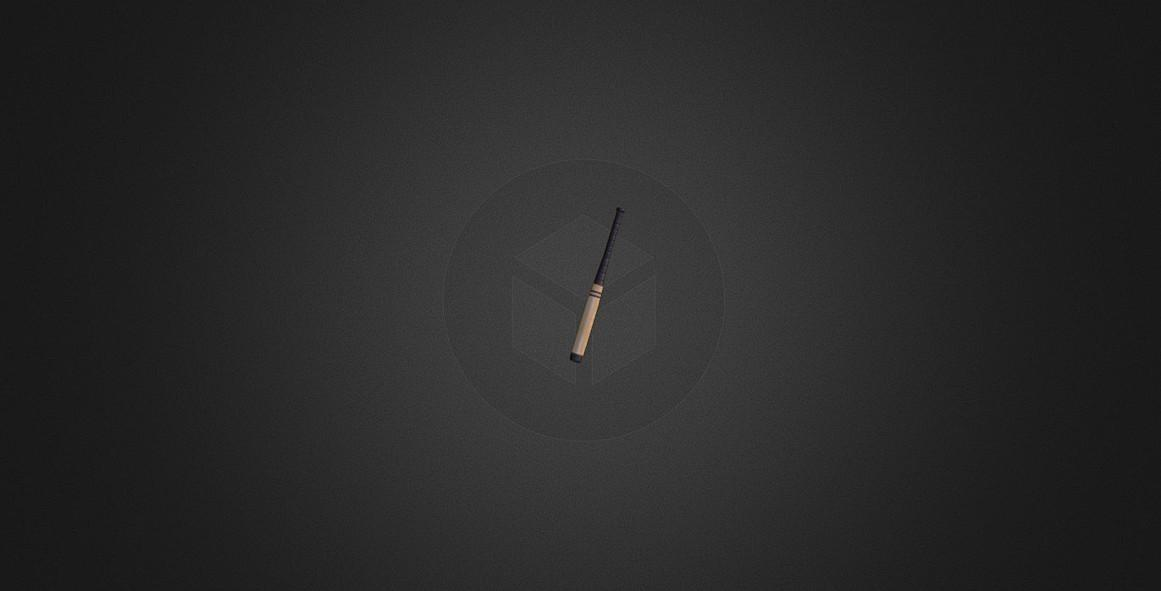Baseball-Bat: (568, 206, 625, 363)
